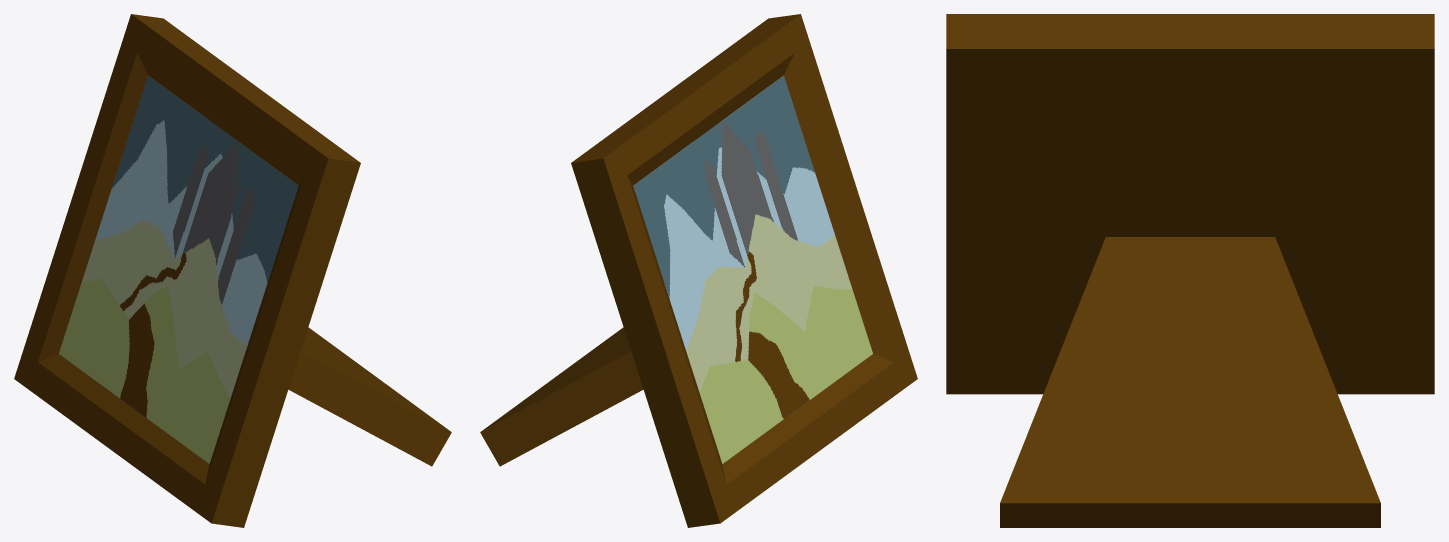
File: picture_table.fbx
3 renders of one model, left to right at view 1: azimuth 30°, elevation 25°; view 2: azimuth 150°, elevation 25°; view 3: azimuth 270°, elevation 25°, orthographic. The views are drawn at different scales.
Parts seen in each view (by area): view 1: picture_table; view 2: picture_table; view 3: picture_table.
Part boxes in pixels (bbox=[...]): picture_table: bbox=[14, 14, 451, 527]; picture_table: bbox=[480, 14, 917, 527]; picture_table: bbox=[946, 14, 1434, 527].
Size of the model in its own units: 4.57 by 5.96 by 5.9.
Materials: 2 (1 with a texture image).
